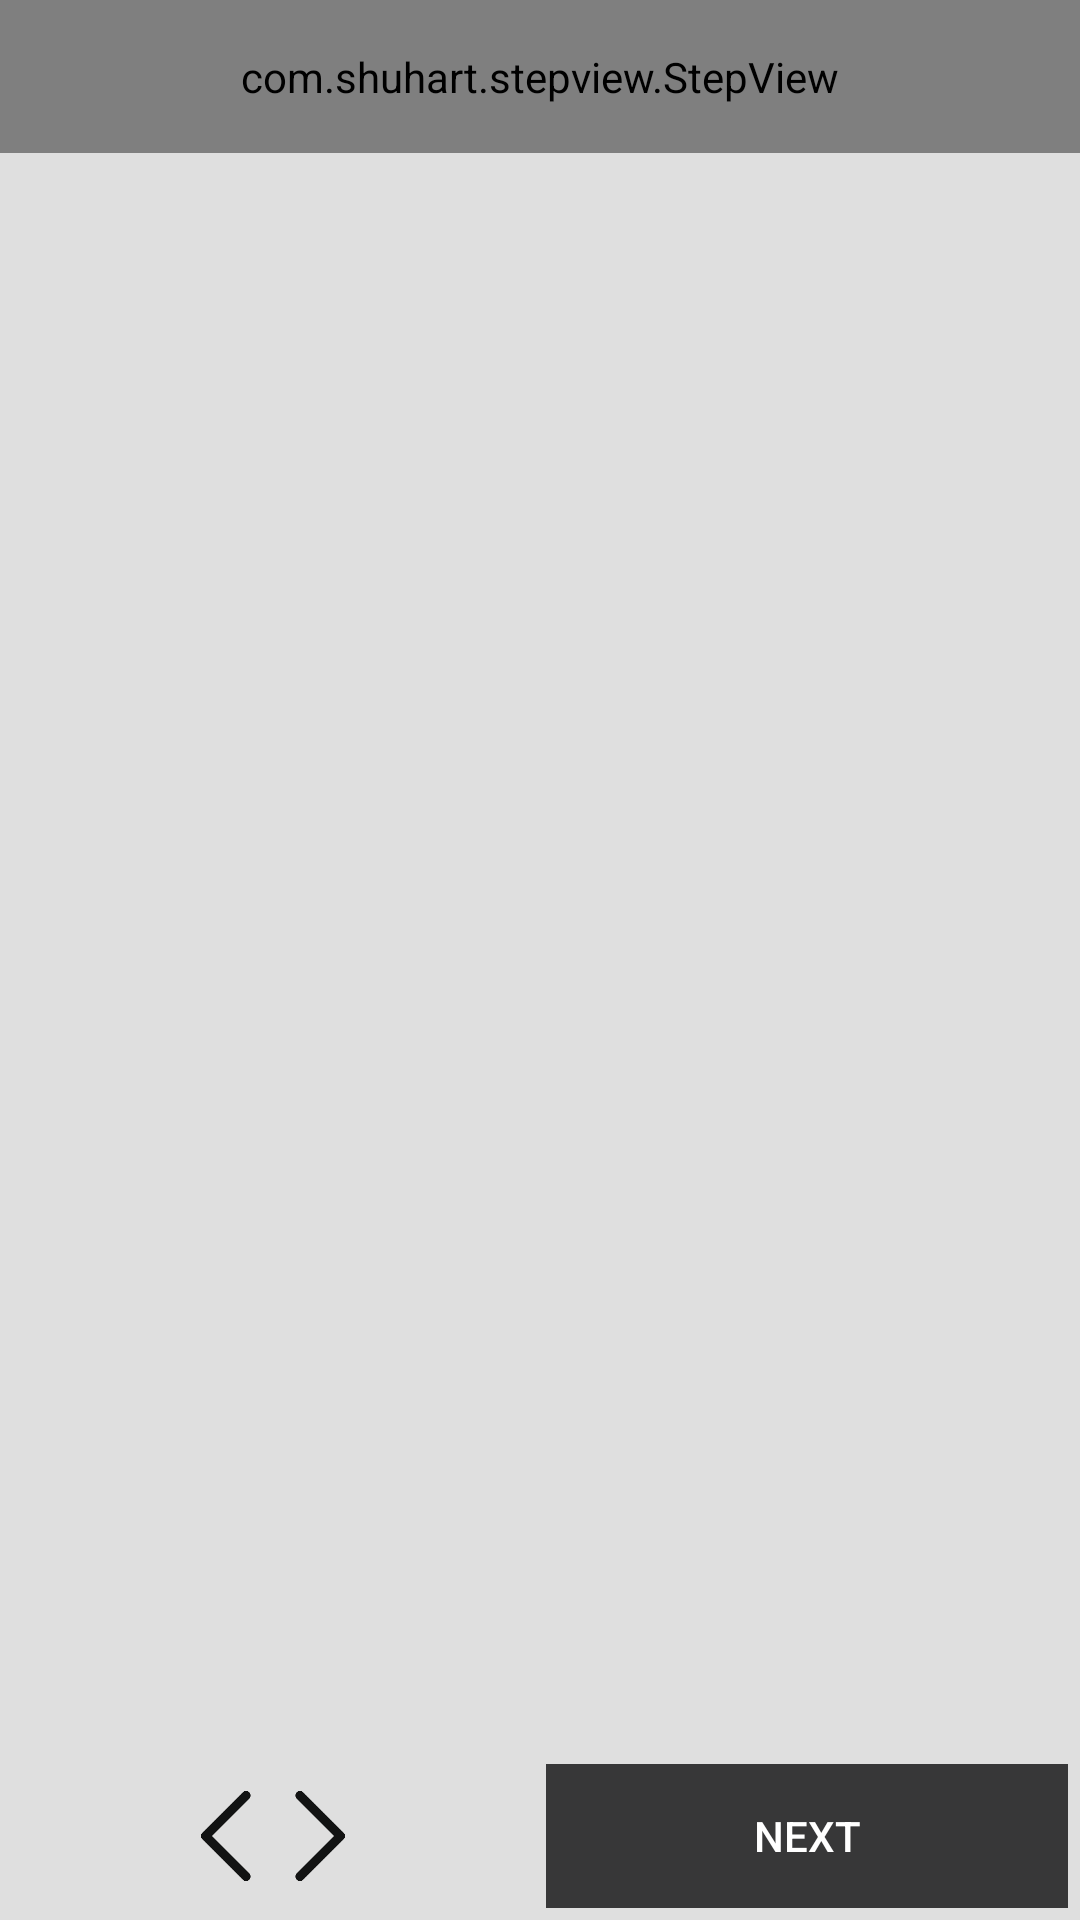

Where icons sit on this 1080 x 1920 app screen, as {"x1": x1, "y1": y1, "x2": x2, "y2": y2}:
swipearrows: {"x1": 201, "y1": 1791, "x2": 345, "y2": 1881}
